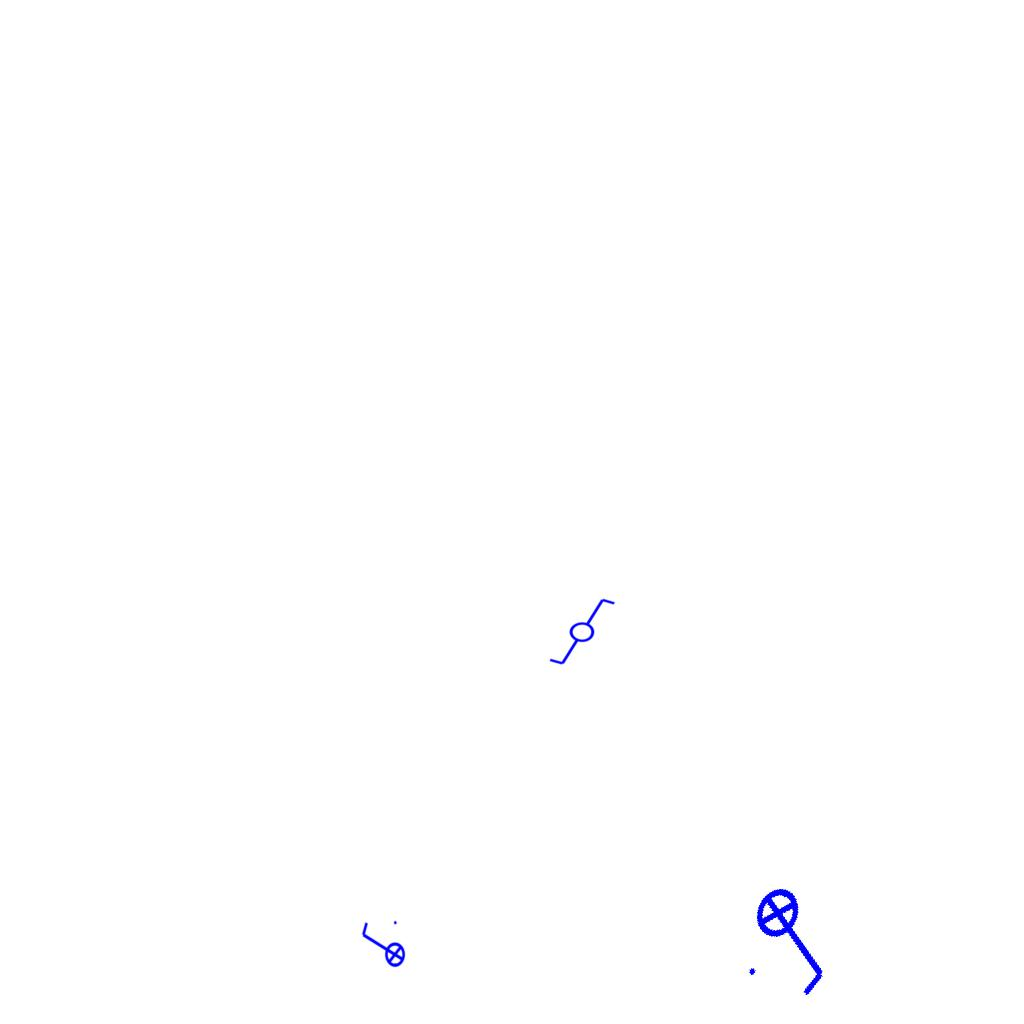Ausschalter_beleuchtet: (728, 868, 862, 1010), (358, 918, 406, 974)
Wechselschalter: (539, 595, 617, 667)
